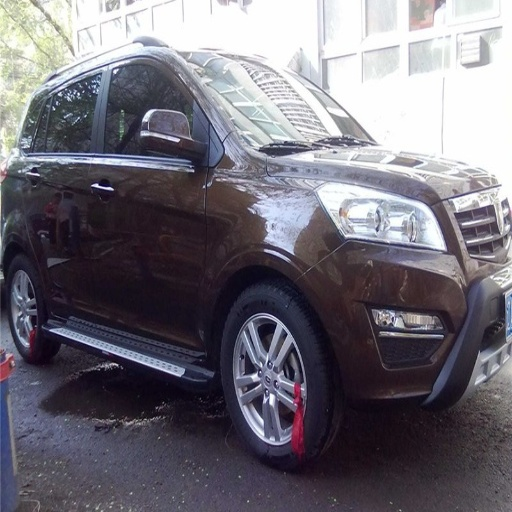front_bumper: (322, 189, 509, 403)
front_right_door: (101, 56, 213, 347)
front_right_light: (334, 188, 448, 253)
